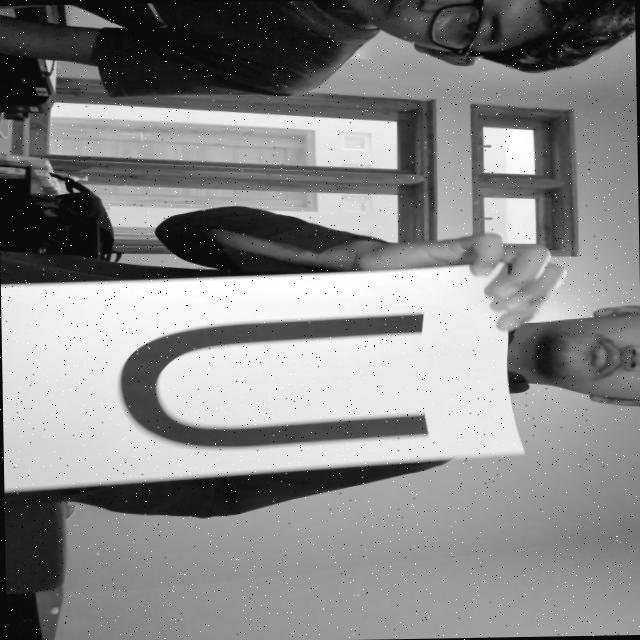u: (108, 308, 440, 463)
